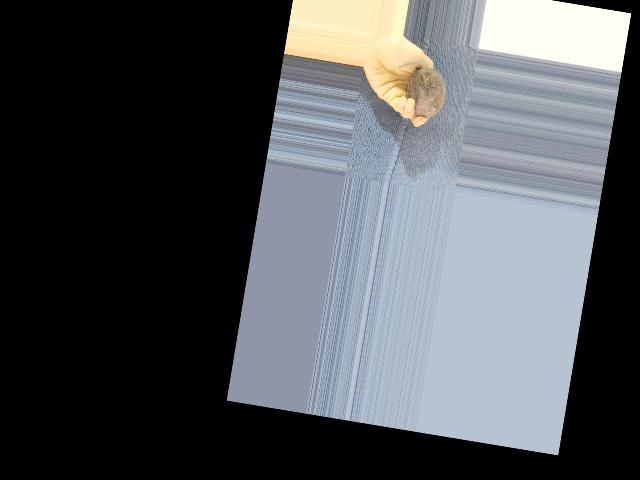beet: (390, 58, 449, 120)
